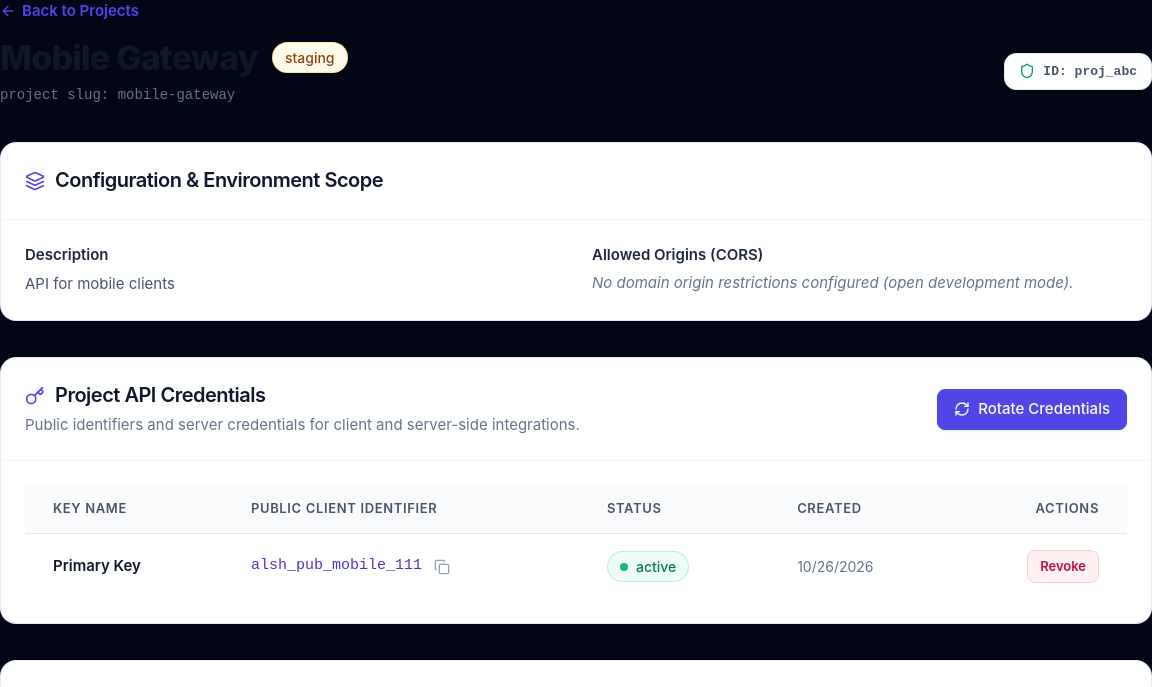
Test: Frontend Project Management & Credentials UI › ProjectDetailPage › should render project details and allow credential rotation with one-time reveal
Check: the text "alsh_pub_mobile_111" is shown, box [251,555,422,578]
// Trigger rotation
Click the button "Rotate Credentials": (1032, 409) [937,389,1127,430]
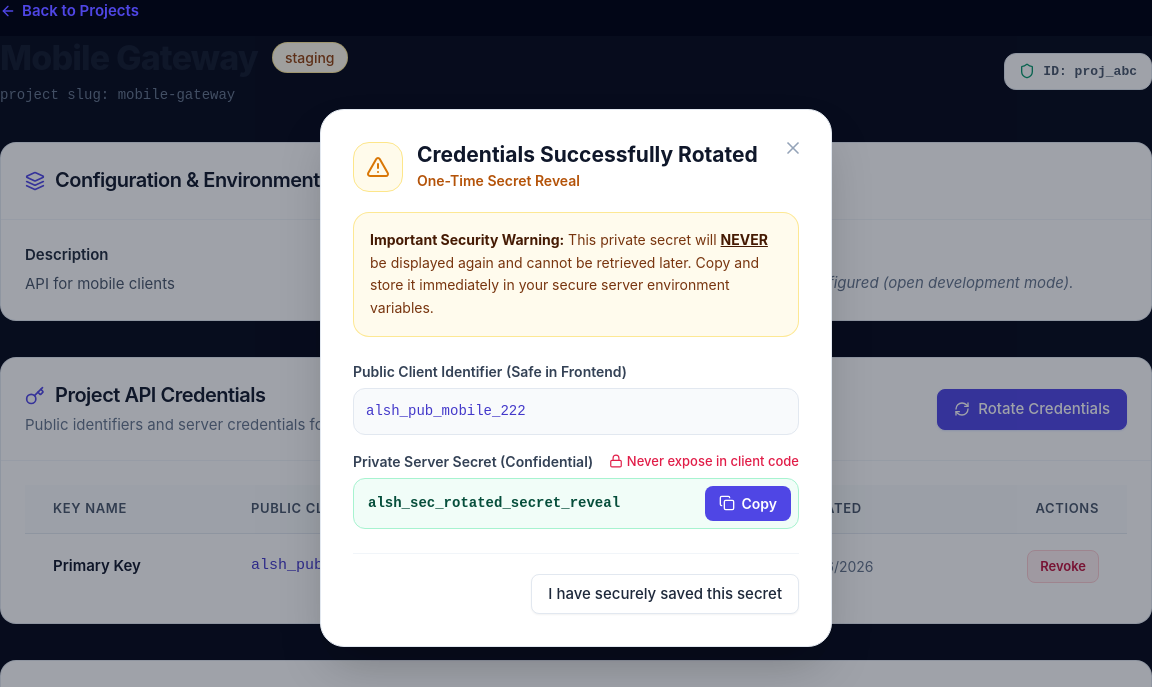
Check: the heading "Credentials Successfully Rotated" is shown, box [417,142,758,168]
Check: the text "alsh_pub_mobile_222" is shown, box [353,388,799,435]
Check: the text "alsh_sec_rotated_secret_reveal" is shown, box [353,478,799,529]
